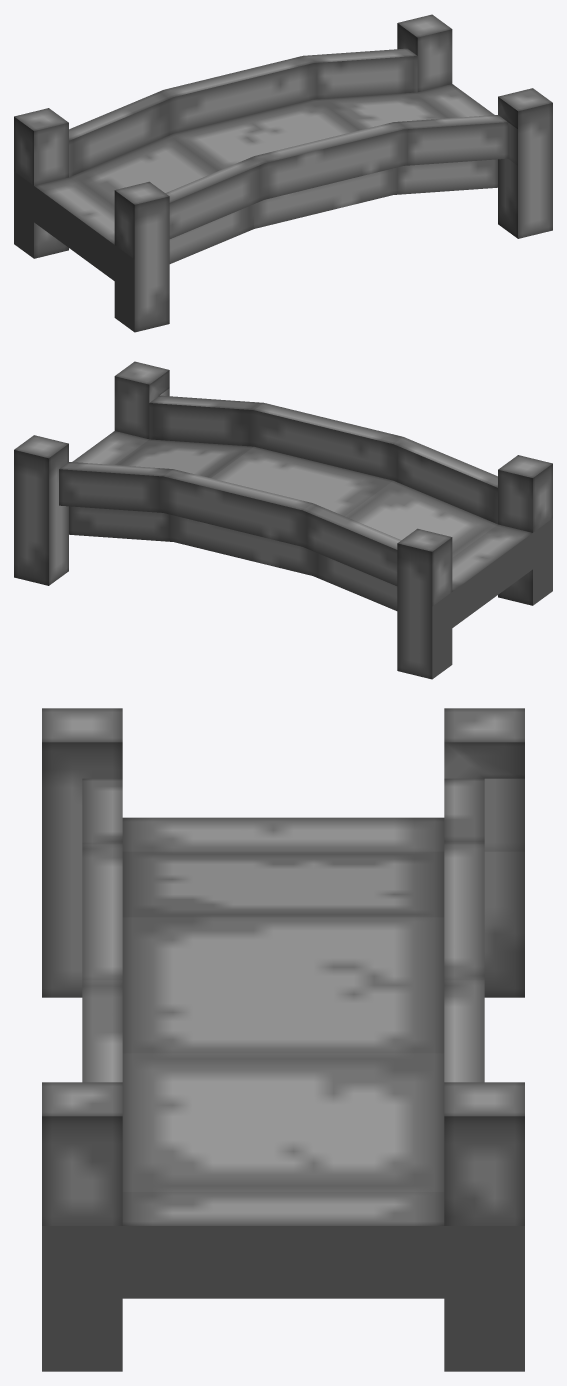
The model's file is bridge.fbx.
The picture shows the model from 3 angles, top to bottom: view 1: azimuth 30°, elevation 25°; view 2: azimuth 150°, elevation 25°; view 3: azimuth 270°, elevation 25°; orthographic projection. The views are drawn at different scales.
Parts seen in each view (by area): view 1: pCube18; view 2: pCube18; view 3: pCube18.
Boxes of the visible parts, x1,y1,x2,y2 form: pCube18: (14,14,552,332); pCube18: (14,361,552,679); pCube18: (42,708,524,1371).
Bounding box in the file's own units: 12 × 3.5 × 6.
1 material, 1 textured.
